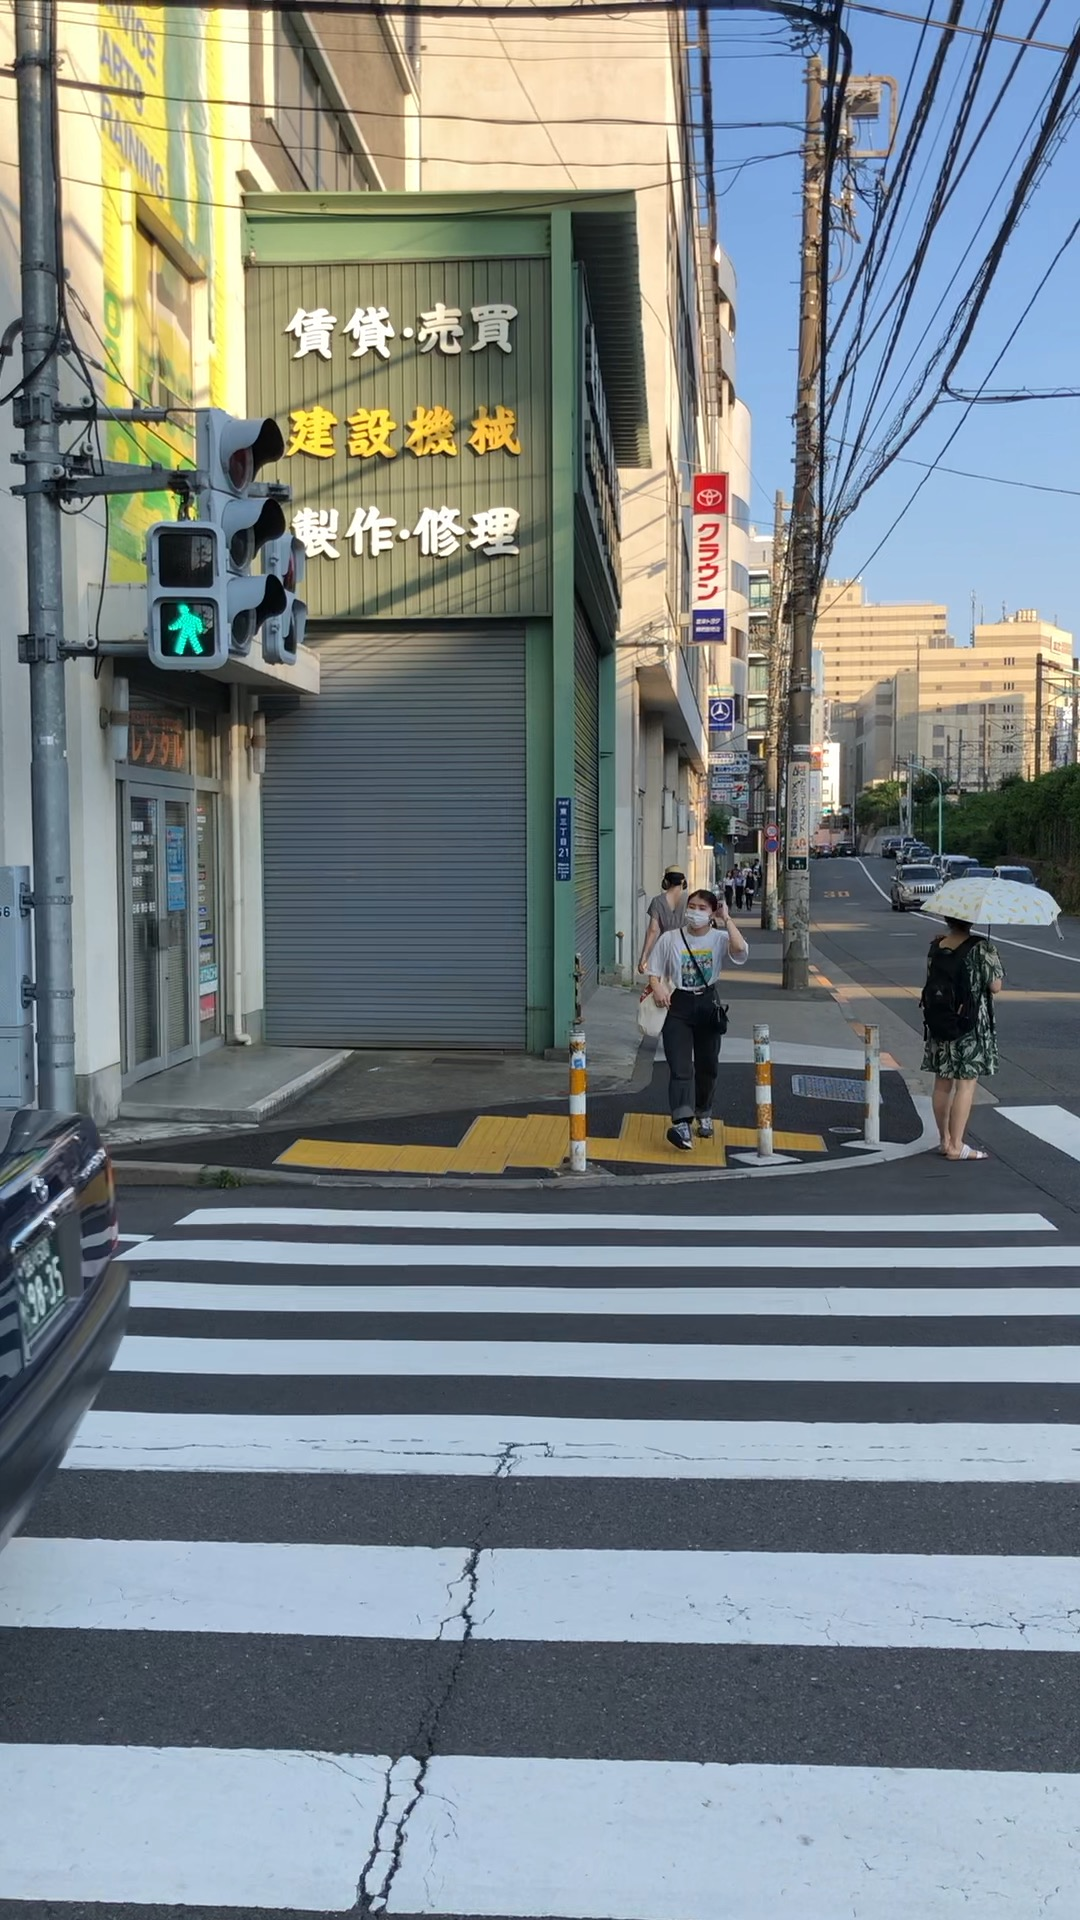green: (142, 520, 229, 669)
